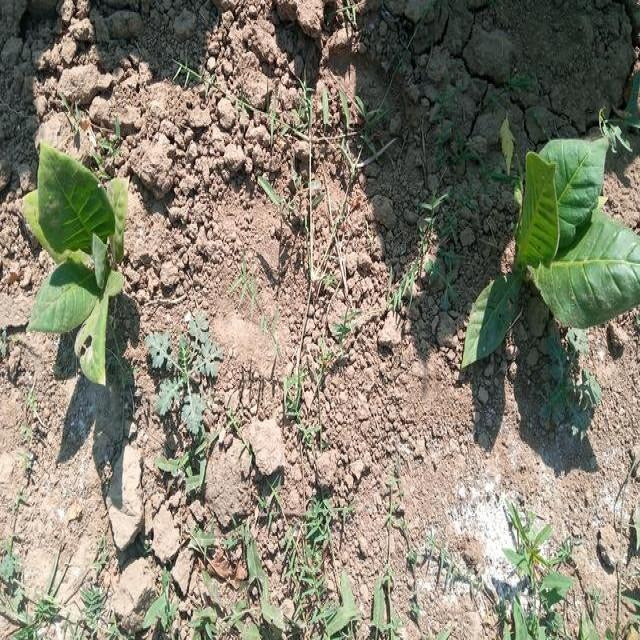crop: (458, 128, 640, 372), (19, 142, 127, 396)
